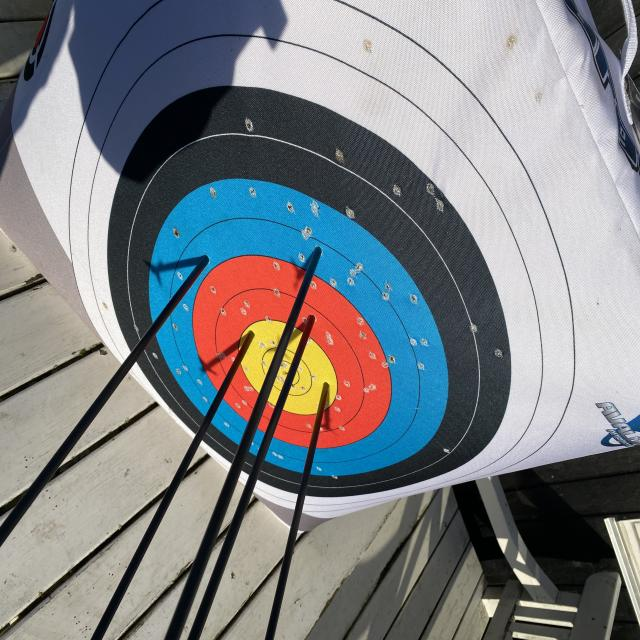Arrow_Blue: (184, 238, 233, 293), (293, 220, 337, 279)
Arrow_Red: (301, 302, 330, 354)
Arrow_Yellow: (224, 308, 264, 354), (309, 366, 341, 402)
